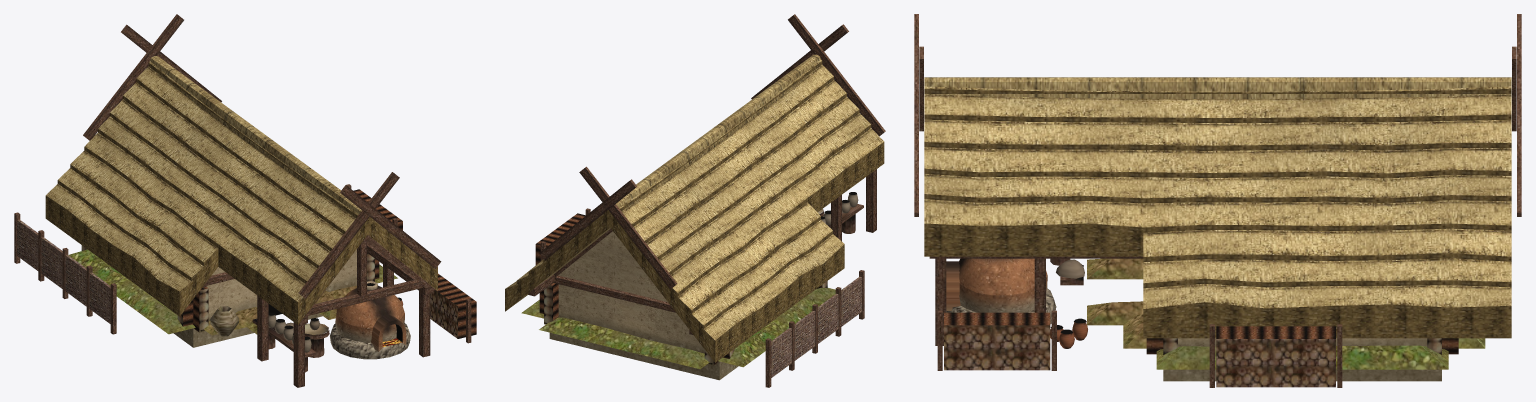
The model's file is hrncir.glb.
3 views of the same model, side by side, from view 1: azimuth 30°, elevation 25°; view 2: azimuth 150°, elevation 25°; view 3: azimuth 270°, elevation 25° (orthographic). The views are drawn at different scales.
Parts seen in each view (by area): view 1: hrncir; view 2: hrncir; view 3: hrncir.
Part boxes in pixels (x1=…): hrncir: x1=14, y1=14, x2=476, y2=387; hrncir: x1=505, y1=14, x2=885, y2=387; hrncir: x1=914, y1=14, x2=1521, y2=387.
Size of the model in its own units: 7.02 by 4.86 by 9.15.
Materials: 1 (1 with a texture image).
